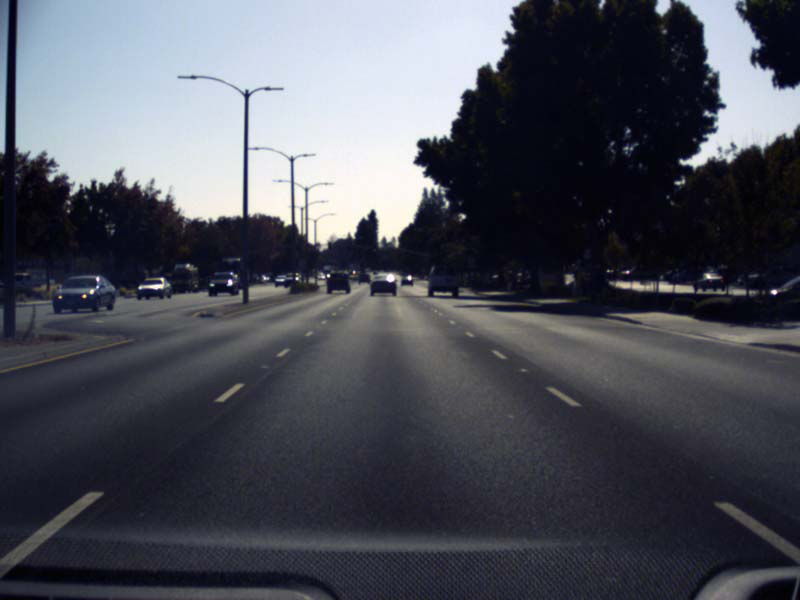Green: (371, 243, 376, 259)
